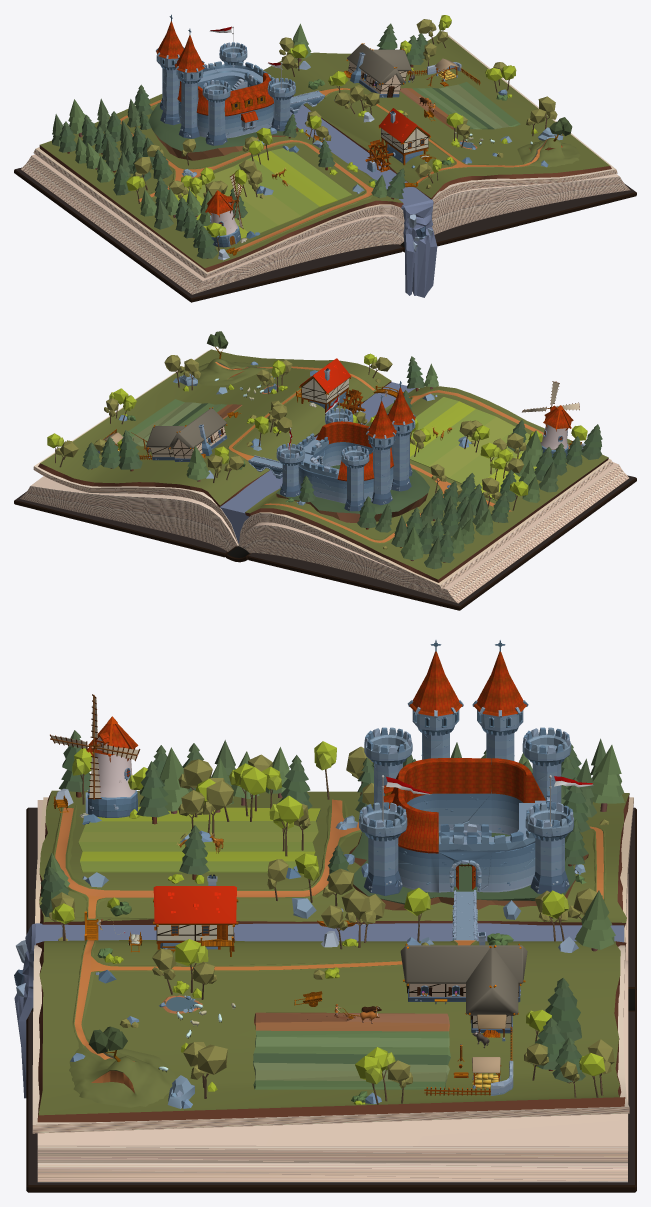
The model's file is book_mod.glb.
The picture shows the model from 3 angles, top to bottom: view 1: azimuth 30°, elevation 25°; view 2: azimuth 150°, elevation 25°; view 3: azimuth 270°, elevation 25°; orthographic projection. The views are drawn at different scales.
Parts seen in each view (by area): view 1: Scene, Waterfall, Mill-water-wheel; view 2: Scene, Waterfall; view 3: Scene, Waterfall, Mill-wind-wheel.
Boxes of the visible parts, x1,y1,x2,y2 form: Scene: (14, 14, 636, 302); Waterfall: (290, 105, 437, 297); Mill-water-wheel: (365, 139, 393, 172); Scene: (14, 331, 636, 610); Waterfall: (220, 382, 415, 543); Scene: (14, 640, 636, 1192); Waterfall: (14, 923, 624, 1098); Mill-wind-wheel: (50, 694, 140, 799).
Size of the model in its own units: 103 by 46.41 by 72.32.
Materials: 3 (3 with a texture image).
